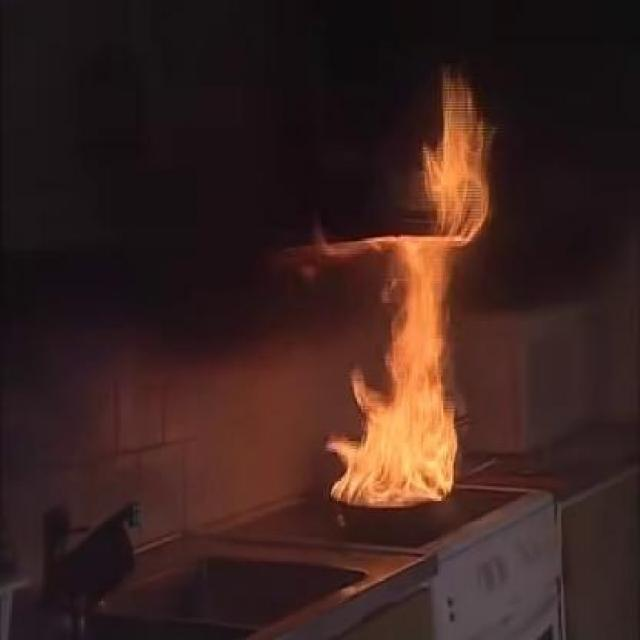fire: (330, 249, 458, 502), (398, 61, 496, 240)
smoke: (274, 131, 383, 224), (286, 328, 348, 407)
